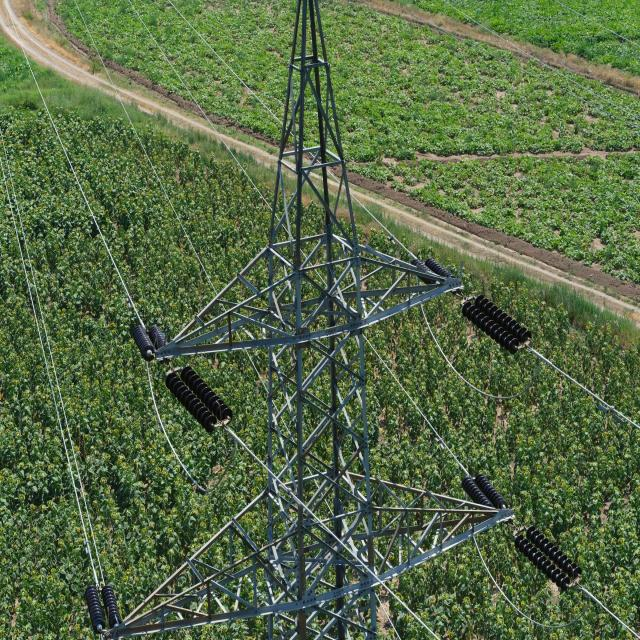direk: (255, 16, 381, 640)
